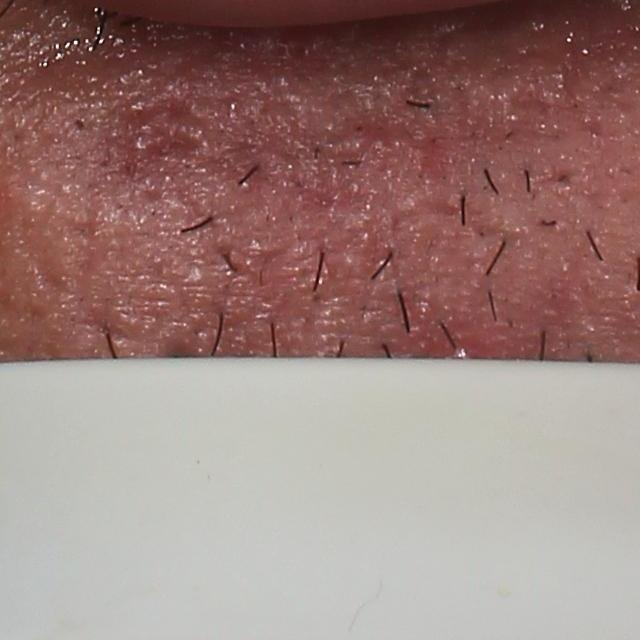atrophic_scar: (12, 214, 68, 321), (125, 95, 206, 136), (135, 138, 206, 165)
